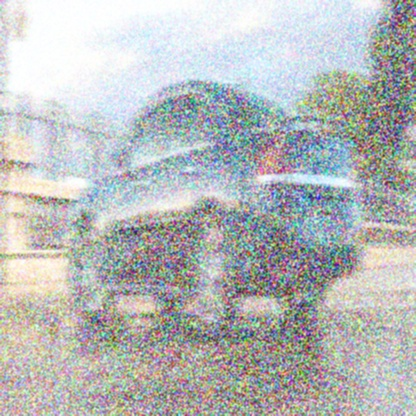Vehicle: (66, 69, 366, 350)
